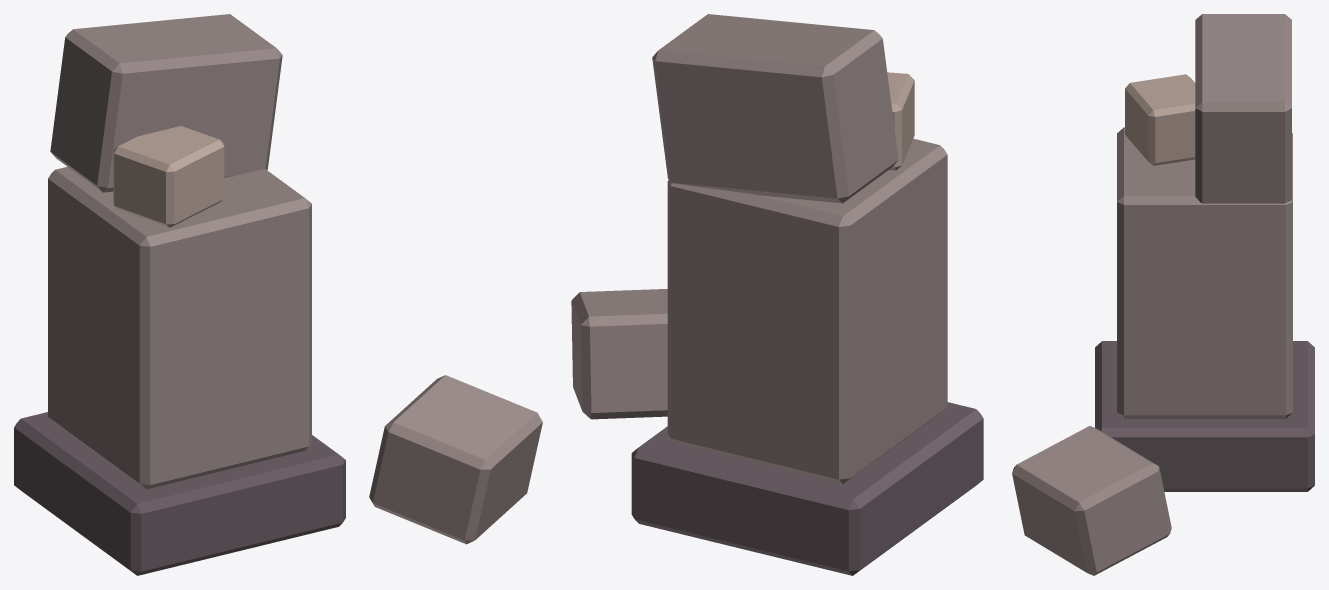
Rendered from Pillar_Broken.fbx.
3 views of the same model, side by side, from view 1: azimuth 30°, elevation 25°; view 2: azimuth 150°, elevation 25°; view 3: azimuth 270°, elevation 25° (orthographic). The views are drawn at different scales.
Parts seen in each view (by area): view 1: Pillar_Broken; view 2: Pillar_Broken; view 3: Pillar_Broken.
Part boxes in pixels (<box>): Pillar_Broken: <box>14,14,542,575</box>; Pillar_Broken: <box>571,14,983,575</box>; Pillar_Broken: <box>1012,14,1314,575</box>.
Bounding box in the file's own units: 2.31 × 2.61 × 1.72.
